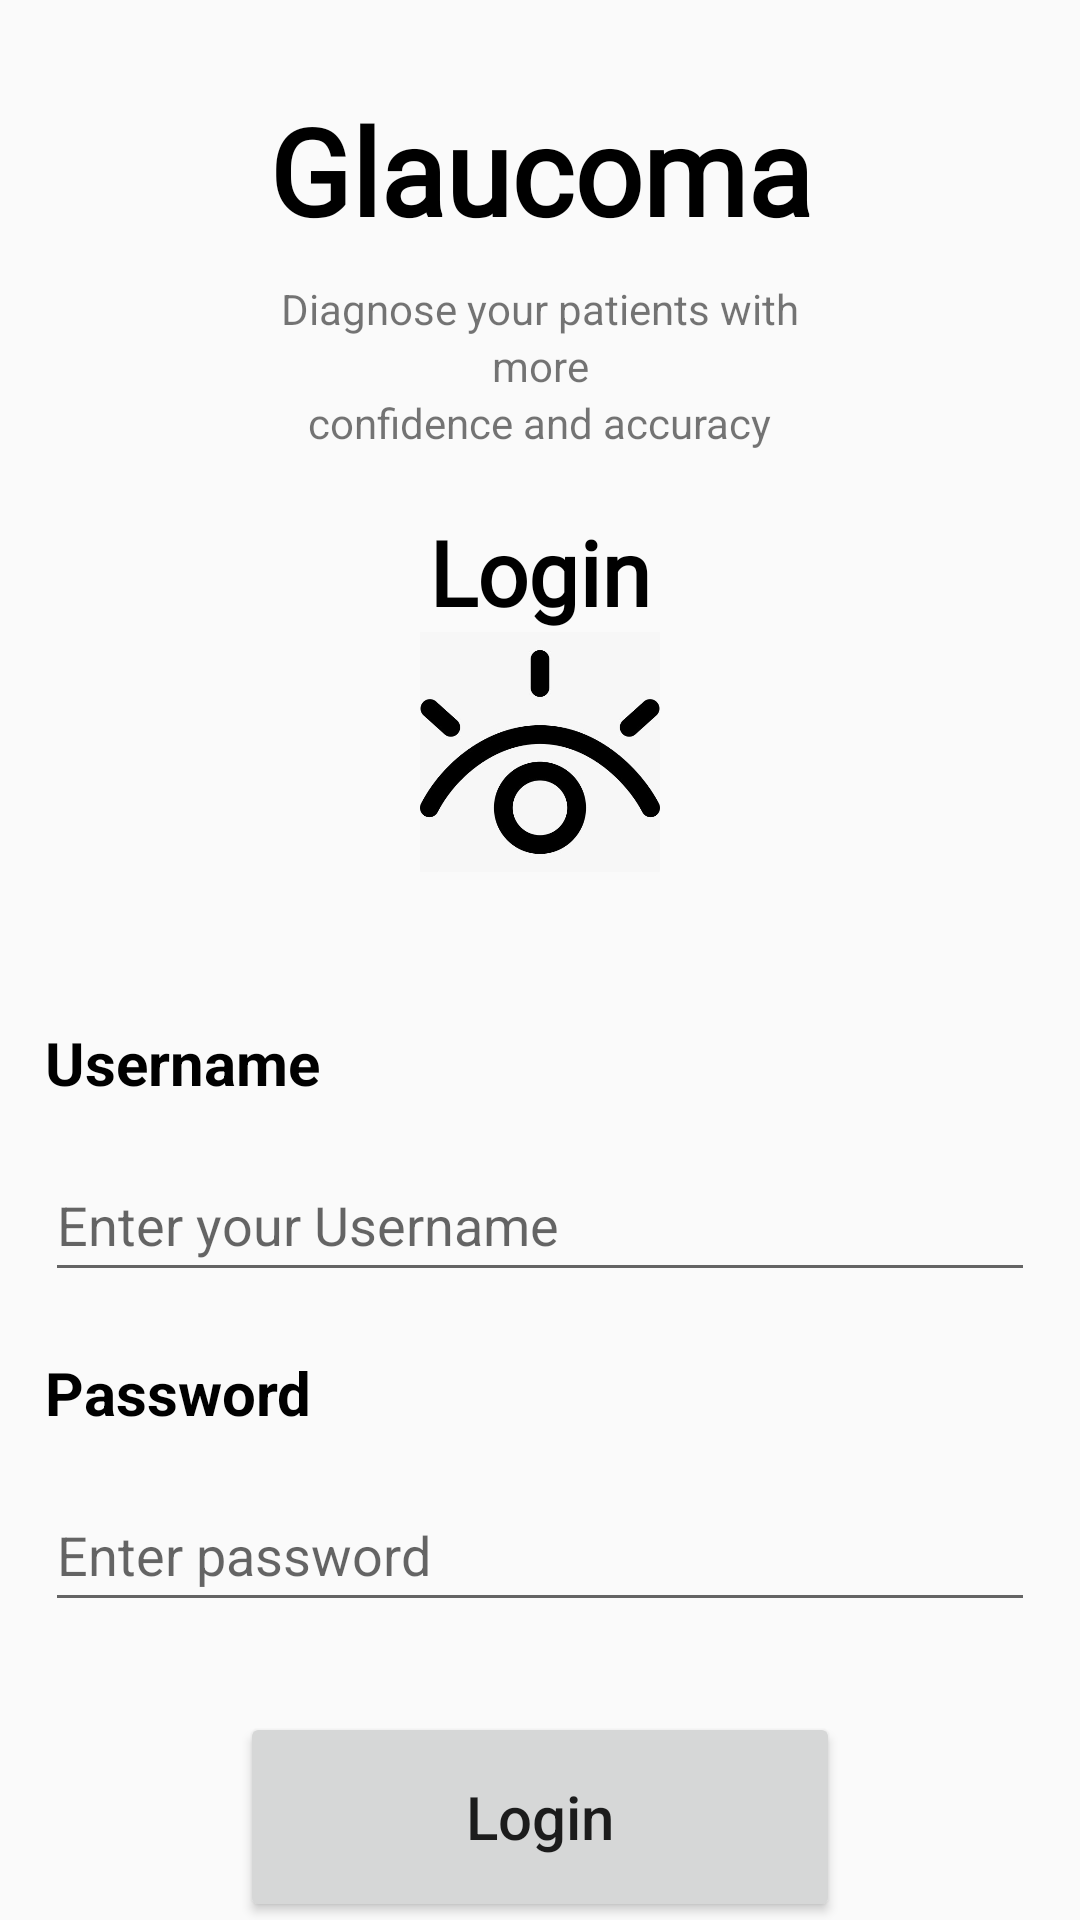

Where to tap for icons on this 1080 x 1920 app screen, as point (x, y):
eye: point (540, 752)
